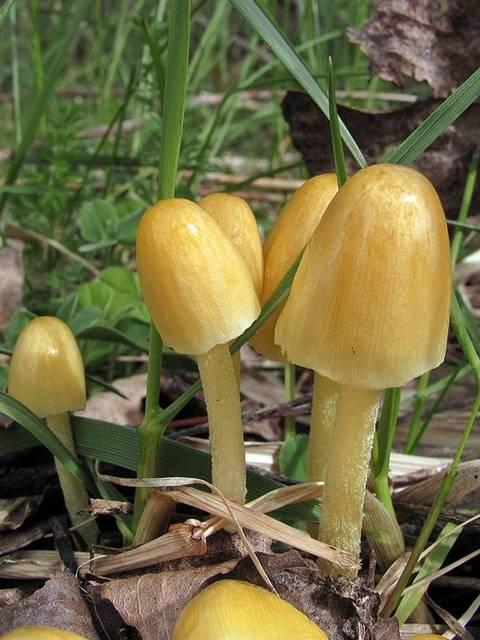Edible Mushroom: (272, 161, 453, 578), (134, 195, 263, 516), (5, 314, 100, 550)
